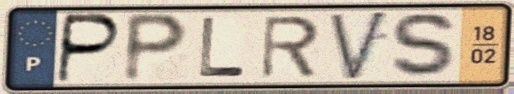L: (197, 15, 249, 79)
P: (120, 11, 192, 86), (54, 11, 125, 86)
R: (258, 13, 323, 81)
S: (387, 10, 463, 81)
V: (325, 8, 392, 85)
